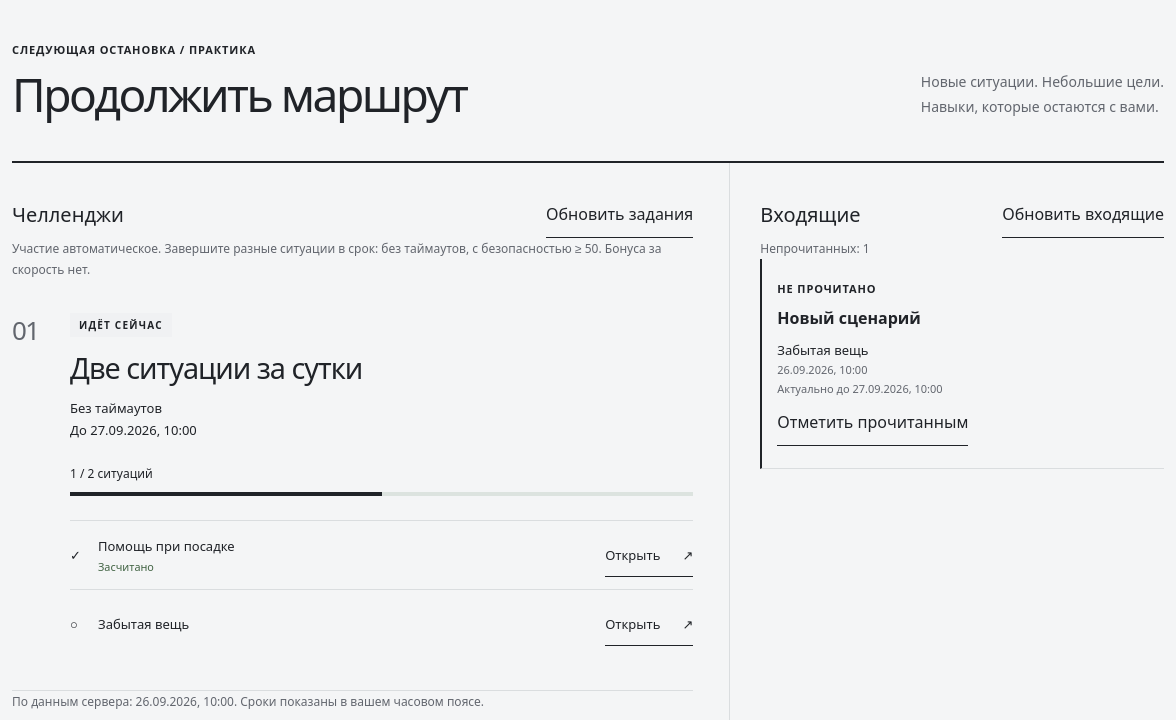
it: retention › persists read and unread, retaining server expiry
Click the button "Отметить прочитанным". click: (873, 422)
box: [777,399,968,446]
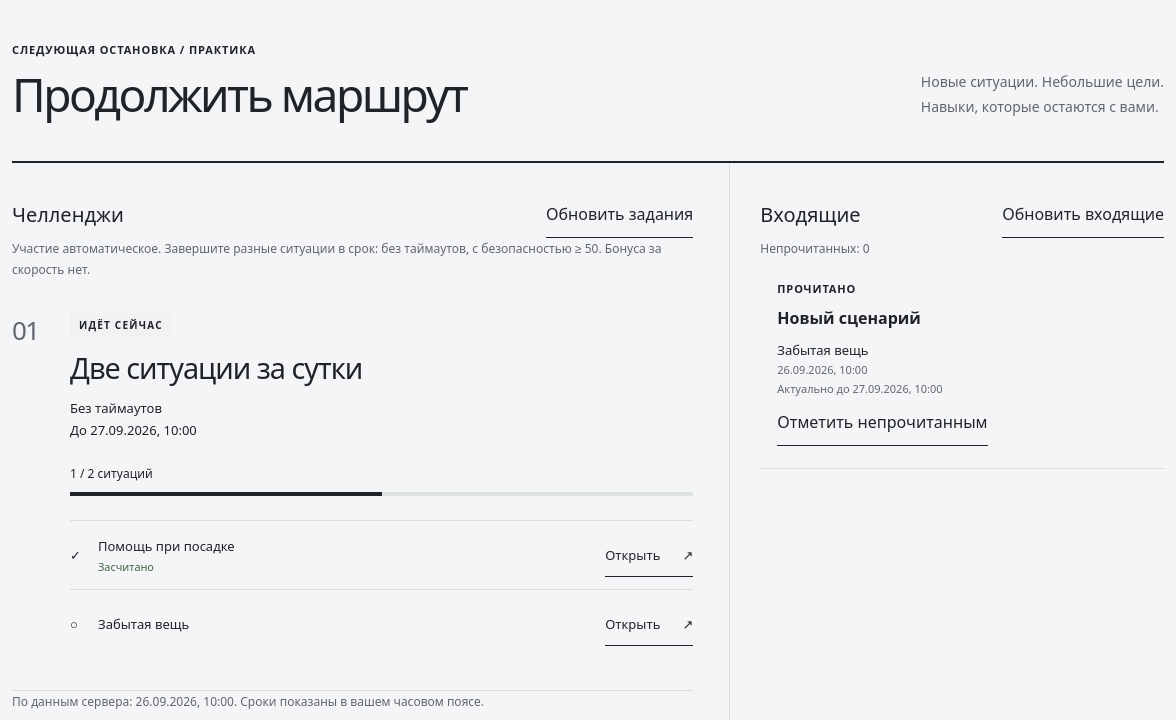
expect the button "Отметить непрочитанным" is shown: met
expect the text "Непрочитанных: 0" is shown: met, box [760,240,870,257]
Click the button "Отметить непрочитанным". click: (882, 422)
box: [777,399,988,446]
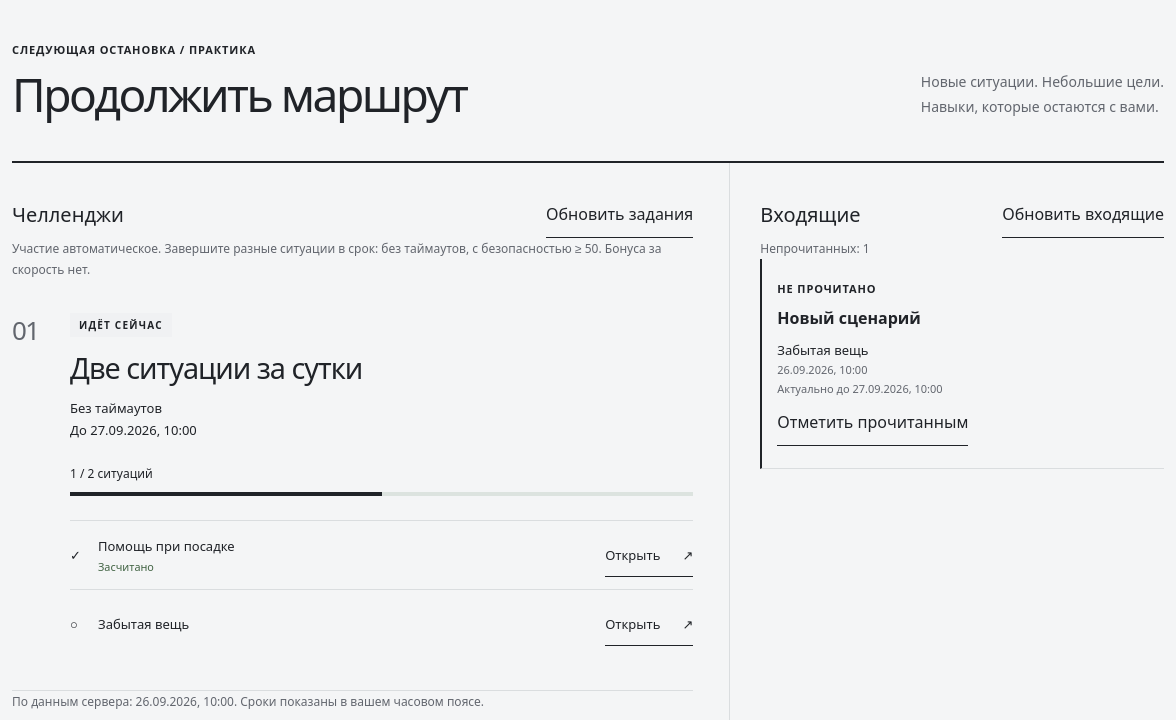
expect the button "Отметить прочитанным" is shown: met, box [777,399,968,446]
